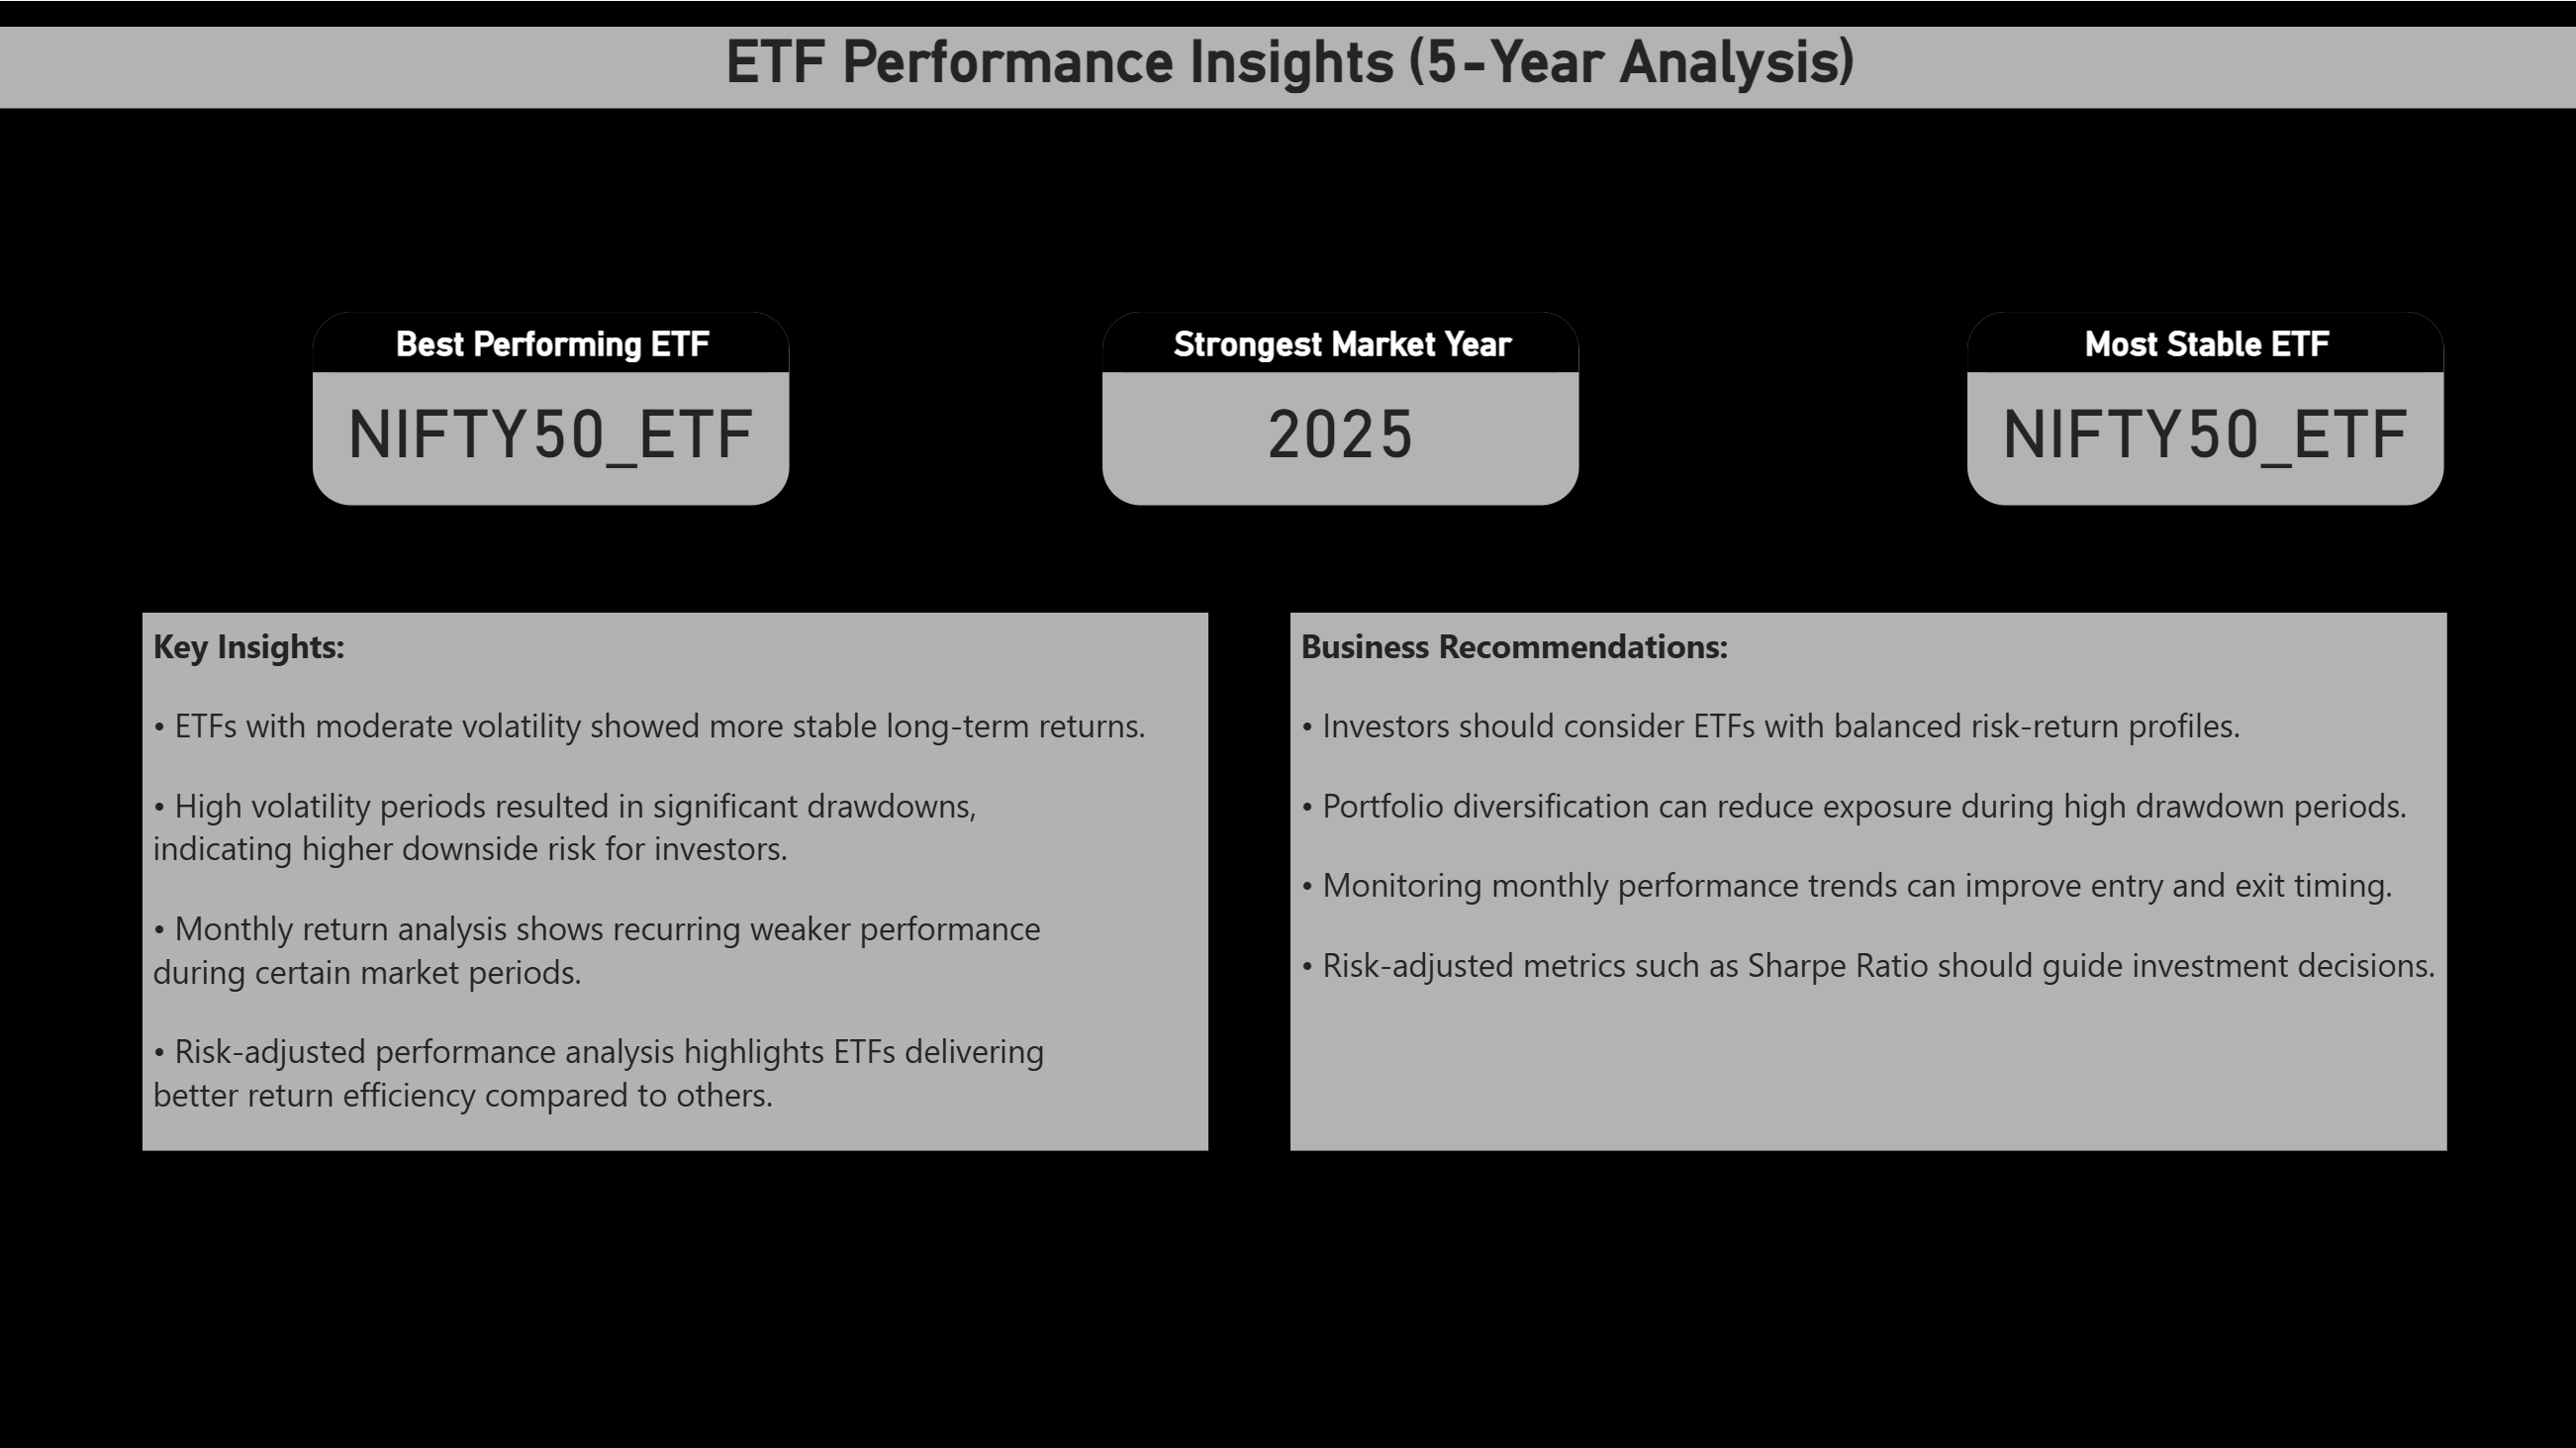

Layout of this report page (visuals, bound fields, positions):
{"tool":"powerbi","page":{"name":"Key Insights & Recommendations","canvas":[1280,720],"ordinal":3},"visuals":[{"type":"textbox","title":"ETF Performance Insights (5-Year Analysis)","box":[0,13.2,1280,40.7],"z":0},{"type":"textbox","box":[70.4,303.5,528.9,267.2],"z":1},{"type":"textbox","box":[640,303.5,574,267.2],"z":2},{"type":"card","title":"Best Performing ETF","fields":{"Values":["ETF_Data.Best ETF Name"]},"box":[154,152.9,238.6,97.9],"z":3},{"type":"card","title":"Strongest Market Year","fields":{"Values":["ETF_Data.Best Performing Year"]},"box":[546.5,152.9,238.6,97.9],"z":4},{"type":"card","title":"Most Stable ETF","fields":{"Values":["ETF_Data.Lowest Risk ETF"]},"box":[975.4,152.9,238.6,97.9],"z":5}]}

Visuals, with their boxes in screenshot pixels (x1, y1, x2, y2), scaled from the page's 1280x720 canvas onto the 2576x1448 screenshot:
"ETF Performance Insights (5-Year Analysis)" textbox: 0,27,2575,109
textbox: 142,611,1206,1148
textbox: 1288,611,2443,1148
"Best Performing ETF" card: 310,308,790,505
"Strongest Market Year" card: 1099,308,1580,505
"Most Stable ETF" card: 1963,308,2443,505
